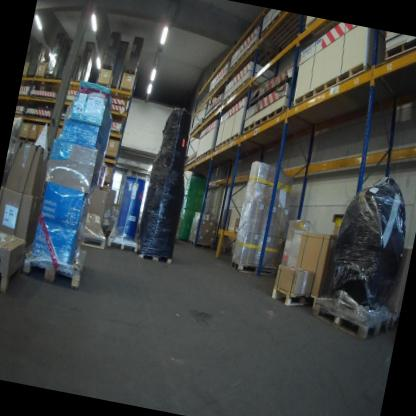pallet: (308, 295, 393, 343), (18, 235, 87, 292), (228, 256, 279, 282), (105, 224, 141, 254), (79, 222, 109, 249), (136, 245, 173, 265), (187, 238, 213, 250), (42, 73, 54, 80), (123, 68, 135, 74), (101, 64, 112, 70), (26, 73, 34, 78)
